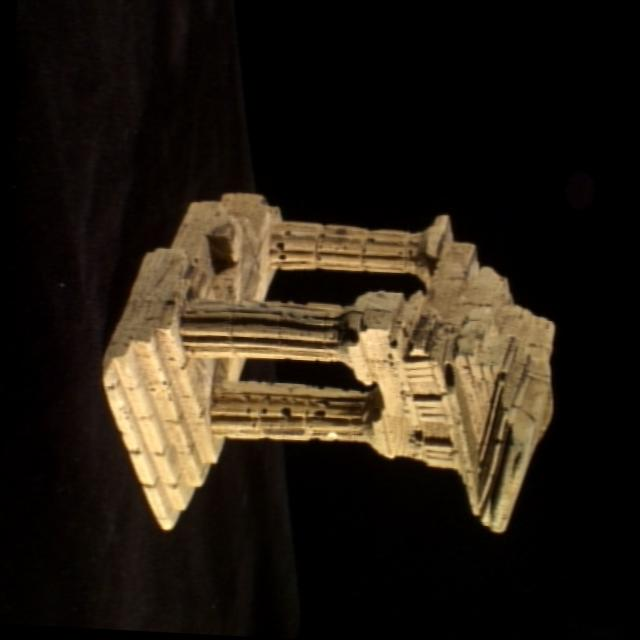Instance-Segmentation: (103, 194, 552, 531)
